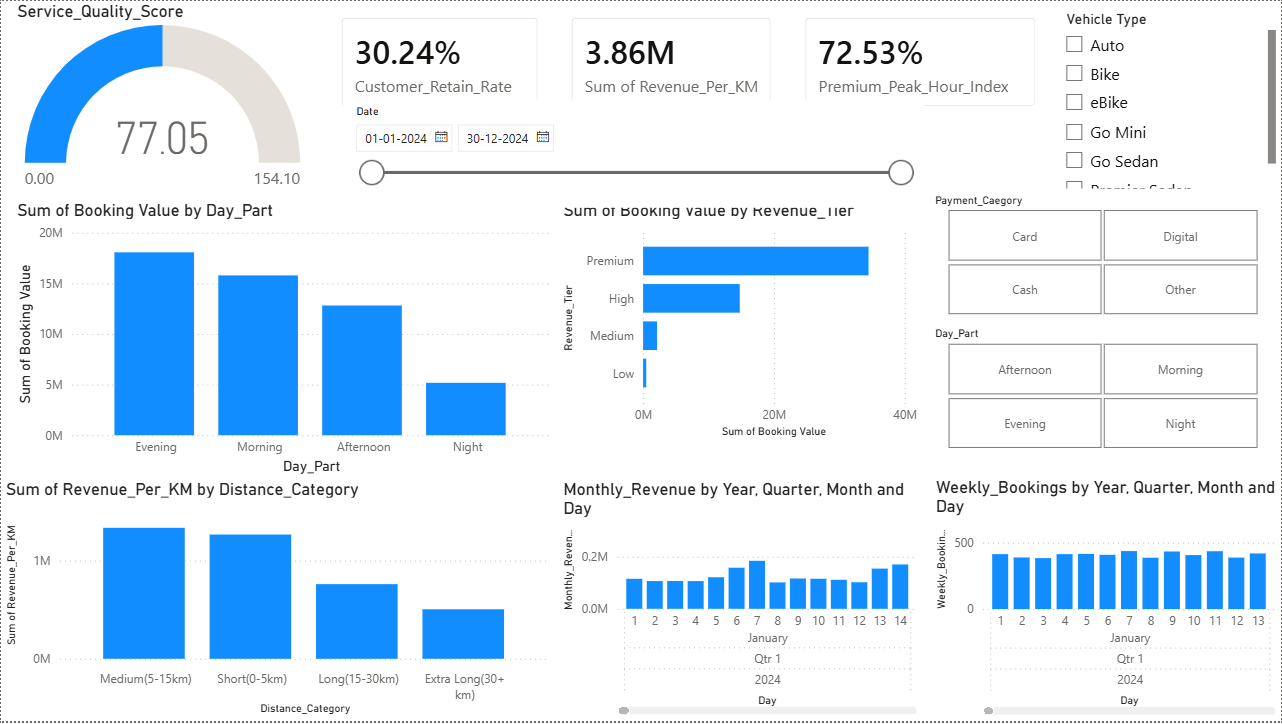

Layout of this report page (visuals, bound fields, positions):
{"tool":"powerbi","page":{"name":"Summary","canvas":[1280,720],"ordinal":6},"visuals":[{"type":"gauge","fields":{"Y":["rideBookings.Service_Quality_Score"]},"box":[10.7,0,300.9,198.5],"z":0},{"type":"cardVisual","fields":{"Data":["rideBookings.Customer_Retain_Rate"]},"box":[323.8,0,230.6,122.2],"z":1000},{"type":"cardVisual","fields":{"Data":["Sum(rideBookings.Revenue_Per_KM)"]},"box":[554.4,0,233.7,122.2],"z":2000},{"type":"cardVisual","fields":{"Data":["rideBookings.Premium_Peak_Hour_Index"]},"box":[788,0,264.2,122.2],"z":3000},{"type":"clusteredColumnChart","fields":{"Category":["rideBookings.Day_Part"],"Y":["Sum(rideBookings.Booking Value)"]},"box":[10.7,198.5,543.7,279.5],"z":4000},{"type":"clusteredBarChart","fields":{"Category":["rideBookings.Revenue_Tier"],"Y":["Sum(rideBookings.Booking Value)"]},"box":[557.4,198.5,363.5,242.8],"z":5000},{"type":"clusteredColumnChart","fields":{"Y":["Sum(rideBookings.Revenue_Per_KM)"],"Category":["rideBookings.Distance_Category"]},"box":[0,478,554.4,241.3],"z":6000},{"type":"lineStackedColumnComboChart","fields":{"Y":["rideBookings.Monthly_Revenue"],"Category":["rideBookings.Date.Variation.Date Hierarchy.Year","rideBookings.Date.Variation.Date Hierarchy.Quarter","rideBookings.Date.Variation.Date Hierarchy.Month","rideBookings.Date.Variation.Date Hierarchy.Day"]},"box":[557.4,478,363.5,241.3],"z":7000},{"type":"lineClusteredColumnComboChart","fields":{"Y":["rideBookings.Weekly_Bookings"],"Category":["rideBookings.Date.Variation.Date Hierarchy.Year","rideBookings.Date.Variation.Date Hierarchy.Quarter","rideBookings.Date.Variation.Date Hierarchy.Month","rideBookings.Date.Variation.Date Hierarchy.Day"]},"box":[930.1,476.5,349.7,242.8],"z":8000},{"type":"slicer","fields":{"Values":["rideBookings.Date"]},"box":[342.1,99.3,578.8,106.9],"z":9000},{"type":"slicer","fields":{"Values":["rideBookings.Vehicle Type"]},"box":[1052.2,4.6,227.6,194],"z":10000},{"type":"slicer","fields":{"Values":["rideBookings.Payment_Caegory"]},"box":[920.9,187.8,358.9,132.9],"z":11000},{"type":"slicer","fields":{"Values":["rideBookings.Day_Part"]},"box":[920.9,320.7,358.9,132.9],"z":12000}]}

Visuals, with their boxes in screenshot pixels (x1, y1, x2, y2), scaled from the page's 1280x720 canvas onto the 1282x724 screenshot:
gauge - rideBookings.Service_Quality_Score: bbox=[11, 0, 312, 200]
cardVisual - rideBookings.Customer_Retain_Rate: bbox=[324, 0, 555, 123]
cardVisual - Sum(rideBookings.Revenue_Per_KM): bbox=[555, 0, 789, 123]
cardVisual - rideBookings.Premium_Peak_Hour_Index: bbox=[789, 0, 1054, 123]
clusteredColumnChart - rideBookings.Day_Part x Sum(rideBookings.Booking Value): bbox=[11, 200, 555, 481]
clusteredBarChart - rideBookings.Revenue_Tier x Sum(rideBookings.Booking Value): bbox=[558, 200, 922, 444]
clusteredColumnChart - Sum(rideBookings.Revenue_Per_KM) x rideBookings.Distance_Category: bbox=[0, 481, 555, 723]
lineStackedColumnComboChart - rideBookings.Monthly_Revenue x rideBookings.Date.Variation.Date Hierarchy.Year: bbox=[558, 481, 922, 723]
lineClusteredColumnComboChart - rideBookings.Weekly_Bookings x rideBookings.Date.Variation.Date Hierarchy.Year: bbox=[932, 479, 1281, 723]
slicer - rideBookings.Date: bbox=[343, 100, 922, 207]
slicer - rideBookings.Vehicle Type: bbox=[1054, 5, 1281, 200]
slicer - rideBookings.Payment_Caegory: bbox=[922, 189, 1281, 322]
slicer - rideBookings.Day_Part: bbox=[922, 322, 1281, 456]
